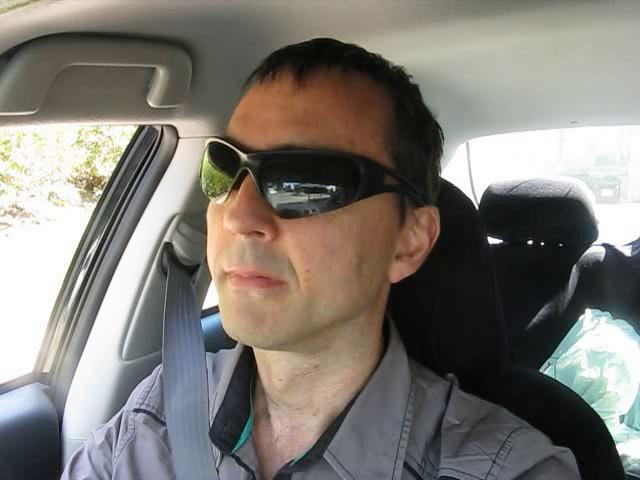no_yawn: (208, 255, 303, 303)
